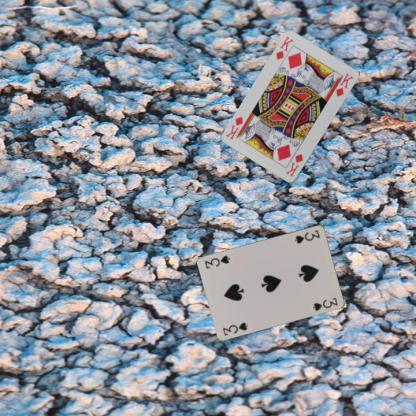3s: (292, 226, 322, 245), (220, 319, 249, 337)
Kd: (283, 151, 305, 178), (273, 34, 295, 61)
